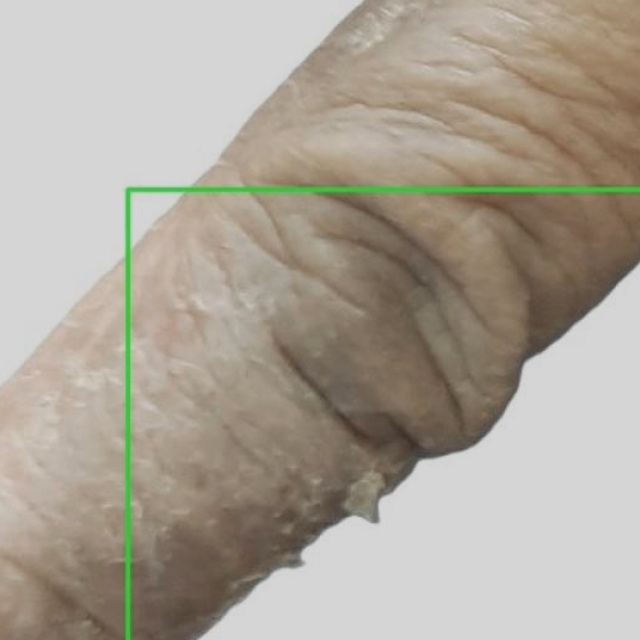Eczema: (127, 189, 639, 639)
